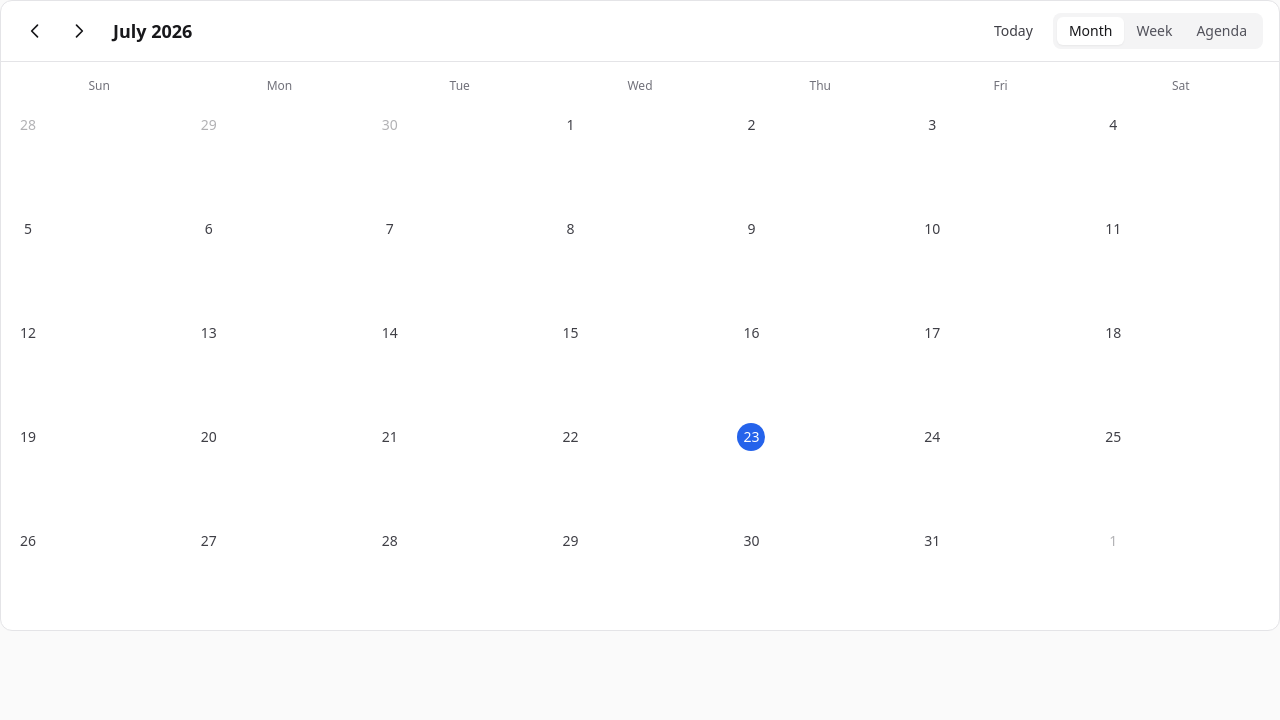
Test case: InterviewCalendar › view mode switching › switches to agenda view when clicking Agenda button
The width and height of the screenshot is (1280, 720).
Click the button "Agenda": (1222, 31) left=1184, top=17, right=1259, bottom=45
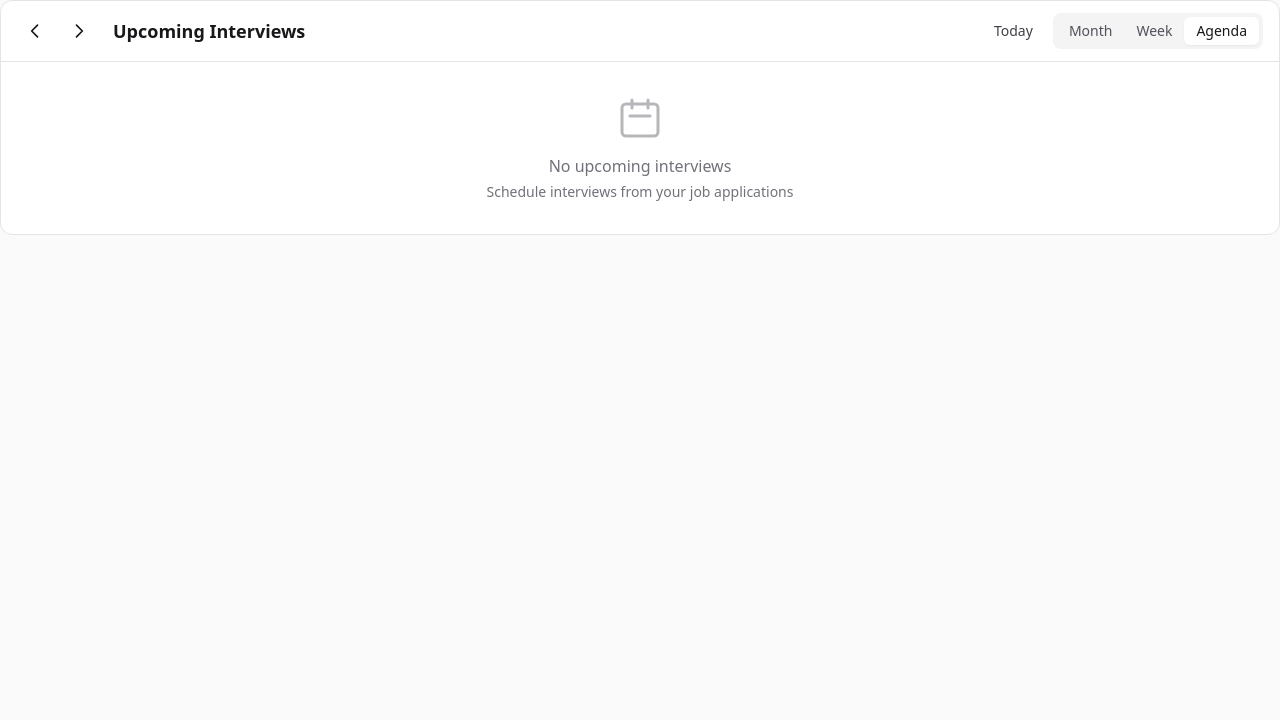
expect the heading "Upcoming Interviews" is shown: met, box left=113, top=17, right=305, bottom=45
